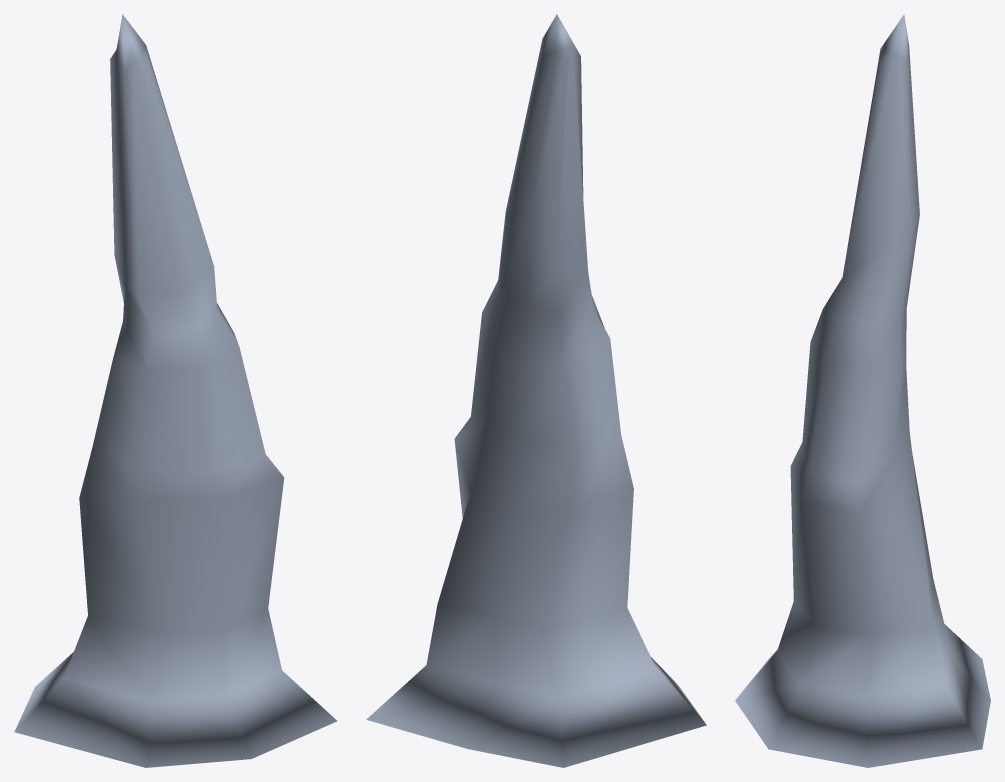
Rendered from Stalagmite_01.fbx.
3 views of the same model, side by side, from view 1: azimuth 30°, elevation 25°; view 2: azimuth 150°, elevation 25°; view 3: azimuth 270°, elevation 25° (orthographic). The views are drawn at different scales.
Visible parts, largest first — view 1: Stalagmite_01; view 2: Stalagmite_01; view 3: Stalagmite_01.
Part boxes in pixels (<box>): Stalagmite_01: <box>14,14,337,767</box>; Stalagmite_01: <box>366,14,706,767</box>; Stalagmite_01: <box>735,14,990,767</box>.
Bounding box in the file's own units: 174 × 414 × 141.
